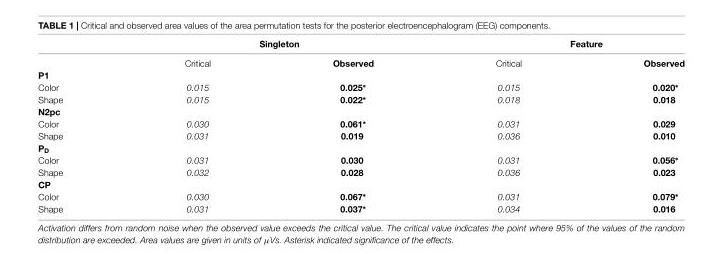table: (37, 37, 683, 214)
table column: (270, 37, 433, 214), (433, 37, 581, 214), (123, 37, 270, 214), (581, 37, 683, 214), (37, 37, 123, 214)
table column header: (37, 37, 683, 68)
table projected row header: (37, 68, 683, 80), (37, 141, 683, 153), (37, 177, 683, 189), (37, 105, 683, 116)
table row: (37, 52, 683, 68), (37, 37, 683, 52), (37, 92, 683, 105), (37, 116, 683, 129), (37, 189, 683, 202), (37, 68, 683, 80), (37, 80, 683, 92), (37, 129, 683, 141), (37, 141, 683, 153), (37, 153, 683, 165), (37, 165, 683, 177), (37, 177, 683, 189), (37, 202, 683, 214), (37, 105, 683, 116)
table spanning cell: (123, 37, 433, 52), (433, 37, 683, 52)
